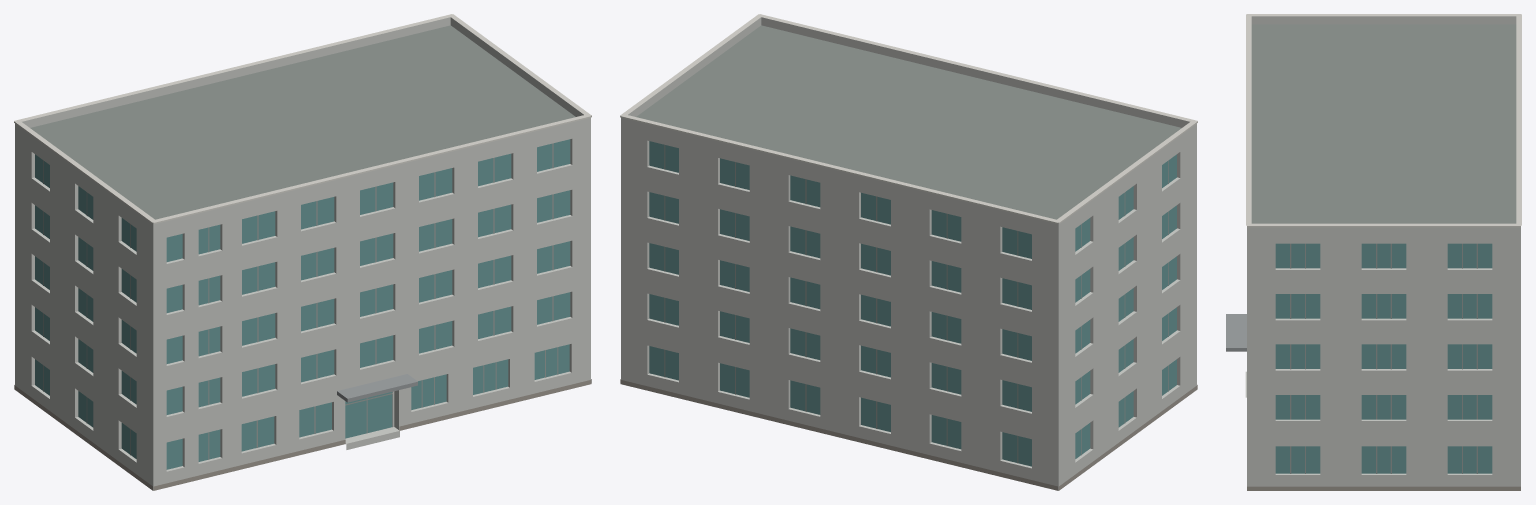
3 views of the same model, side by side, from view 1: azimuth 30°, elevation 25°; view 2: azimuth 150°, elevation 25°; view 3: azimuth 270°, elevation 25° (orthographic).
Parts seen in each view (by area): view 1: nuri__wall, nuri__roof, nuri__glass, nuri__parapet, nuri__trim, nuri__base, nuri__frame, nuri__canopy, nuri__entranceThreshold_0; view 2: nuri__wall, nuri__roof, nuri__glass, nuri__parapet, nuri__trim, nuri__base, nuri__frame; view 3: nuri__wall, nuri__roof, nuri__glass, nuri__trim, nuri__parapet, nuri__base, nuri__frame, nuri__canopy.
Part boxes in pixels (x1,y1,x2,y2): nuri__wall: (15, 124, 590, 490); nuri__roof: (30, 25, 575, 490); nuri__glass: (35, 139, 570, 469); nuri__parapet: (15, 17, 590, 230); nuri__trim: (14, 14, 591, 224); nuri__base: (14, 379, 591, 490); nuri__frame: (43, 143, 558, 459); nuri__canopy: (337, 374, 417, 402); nuri__entranceThreshold_0: (345, 427, 399, 449); nuri__wall: (621, 124, 1196, 490); nuri__roof: (636, 25, 1181, 490); nuri__glass: (649, 141, 1176, 466); nuri__parapet: (621, 17, 1196, 230); nuri__trim: (620, 14, 1197, 224); nuri__base: (620, 379, 1197, 490); nuri__frame: (664, 144, 1168, 463); nuri__wall: (1247, 233, 1520, 486); nuri__roof: (1251, 24, 1516, 223); nuri__glass: (1275, 243, 1492, 473); nuri__trim: (1246, 14, 1521, 227); nuri__parapet: (1247, 16, 1520, 233); nuri__base: (1247, 486, 1520, 490); nuri__frame: (1290, 243, 1477, 473); nuri__canopy: (1226, 314, 1246, 351).
Size of the model in its own units: 31.12 by 18.55 by 18.36.
